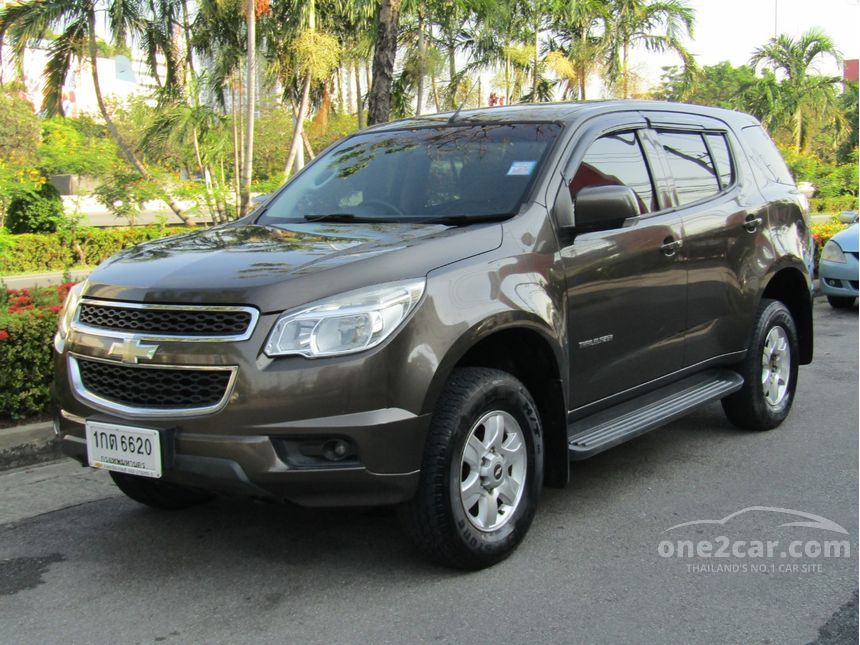pickup: (49, 95, 817, 572)
